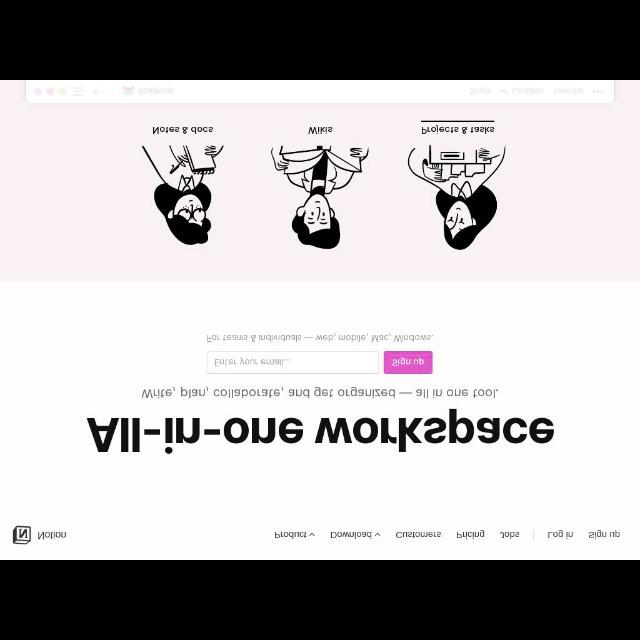icon: (29, 84, 66, 98), (588, 86, 610, 95), (70, 83, 84, 95), (90, 85, 104, 96), (499, 85, 508, 95), (308, 531, 318, 539), (375, 530, 381, 538)
image: (264, 140, 384, 252), (408, 146, 514, 252), (140, 146, 236, 248), (9, 525, 71, 549), (122, 88, 134, 96)
input: (208, 352, 380, 373)
panel: (26, 83, 616, 103)
spinner: (327, 526, 385, 546), (269, 528, 321, 548)
text: (87, 413, 558, 462), (143, 138, 230, 248), (138, 384, 504, 406), (206, 328, 437, 344), (415, 118, 501, 136), (214, 356, 290, 368), (587, 527, 623, 543), (148, 126, 218, 134), (396, 530, 442, 542), (455, 528, 493, 542), (138, 86, 178, 98), (548, 525, 574, 543), (331, 530, 372, 540), (512, 84, 546, 96), (552, 85, 586, 96), (274, 530, 306, 540), (393, 358, 425, 368), (468, 85, 494, 96), (502, 528, 522, 540), (307, 126, 335, 134)
textbutton: (383, 351, 433, 373)
toolbar: (4, 515, 638, 557)
